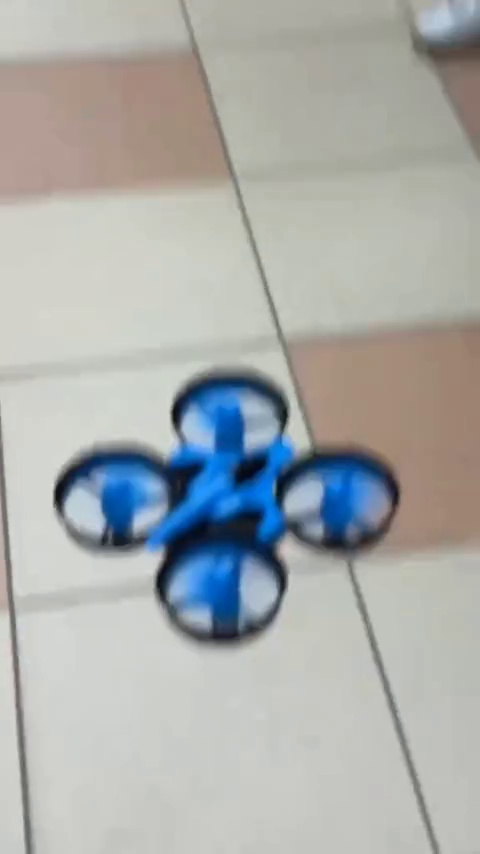drone: (48, 369, 397, 650)
